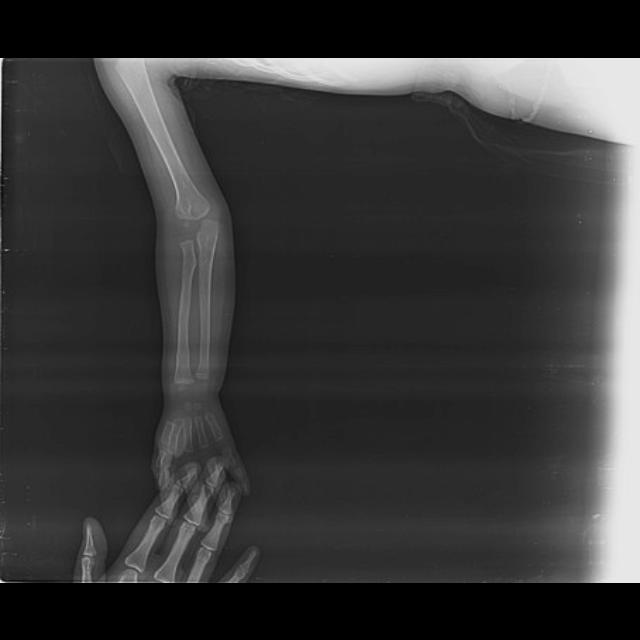Fracture: (173, 340, 189, 363)
